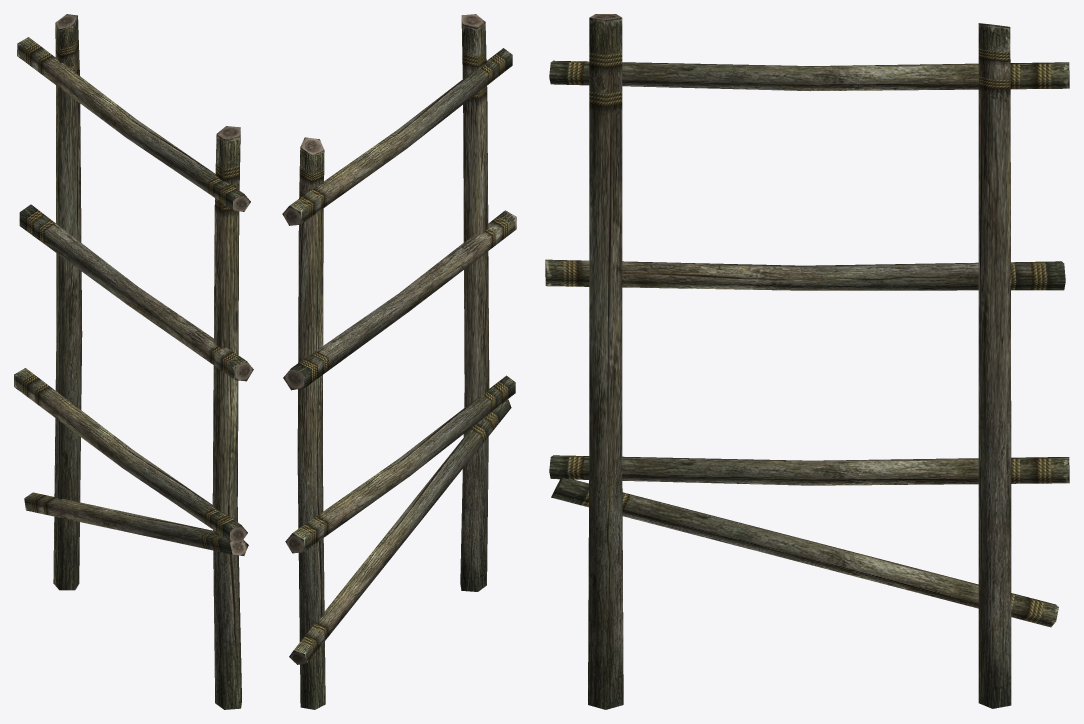
The model's file is thing_hake_05.fbx.
The picture shows the model from 3 angles, left to right: view 1: azimuth 30°, elevation 25°; view 2: azimuth 150°, elevation 25°; view 3: azimuth 270°, elevation 25°; orthographic projection. The views are drawn at different scales.
Visible parts, largest first — view 1: thing_hake_05; view 2: thing_hake_05; view 3: thing_hake_05.
Part boxes in pixels (bbox=[...]): thing_hake_05: bbox=[14, 14, 253, 709]; thing_hake_05: bbox=[282, 14, 516, 709]; thing_hake_05: bbox=[545, 14, 1069, 709].
Size of the model in its own units: 0.499 by 7.6 by 5.24.
